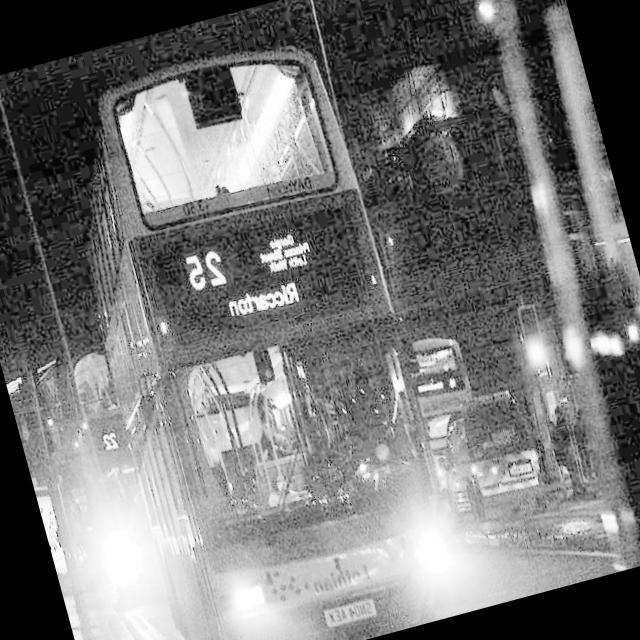Bus: (22, 25, 475, 640), (0, 303, 146, 528), (362, 300, 505, 502)
Car: (421, 356, 566, 566)
